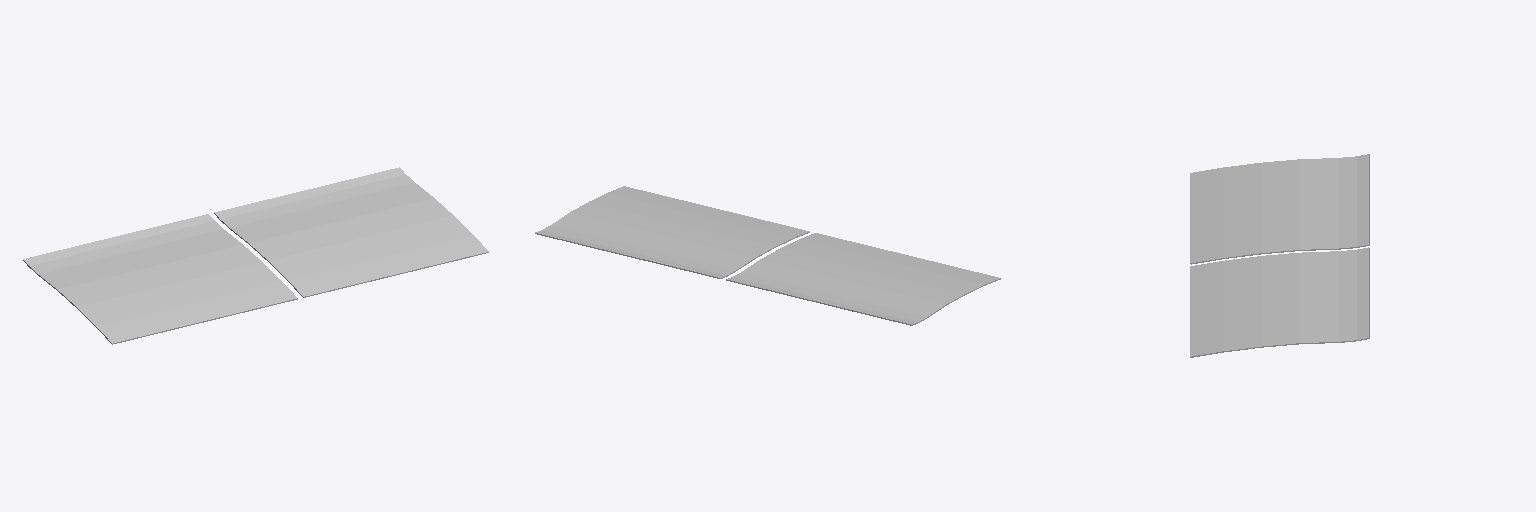
Rendered from FreezerLid.obj.
The picture shows the model from 3 angles: view 1: azimuth 30°, elevation 25°; view 2: azimuth 150°, elevation 25°; view 3: azimuth 270°, elevation 25°; orthographic projection.
Visible parts, largest first — view 1: Cube.001; view 2: Cube.001; view 3: Cube.001.
Boxes of the visible parts, <box> form: Cube.001: <box>23,167,488,344</box>; Cube.001: <box>535,186,1000,325</box>; Cube.001: <box>1190,154,1369,357</box>.
Bounding box in the file's own units: 8.37 × 0.4261 × 3.45.